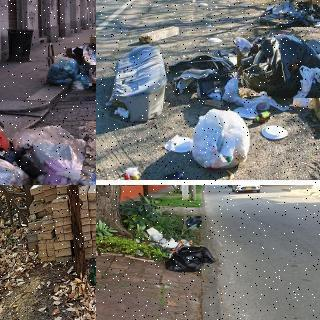Garbage: (237, 27, 320, 98), (15, 119, 96, 178), (189, 106, 249, 168), (219, 65, 267, 103), (163, 243, 220, 273), (46, 54, 81, 87), (60, 160, 96, 185), (184, 213, 202, 229), (83, 43, 96, 65)
